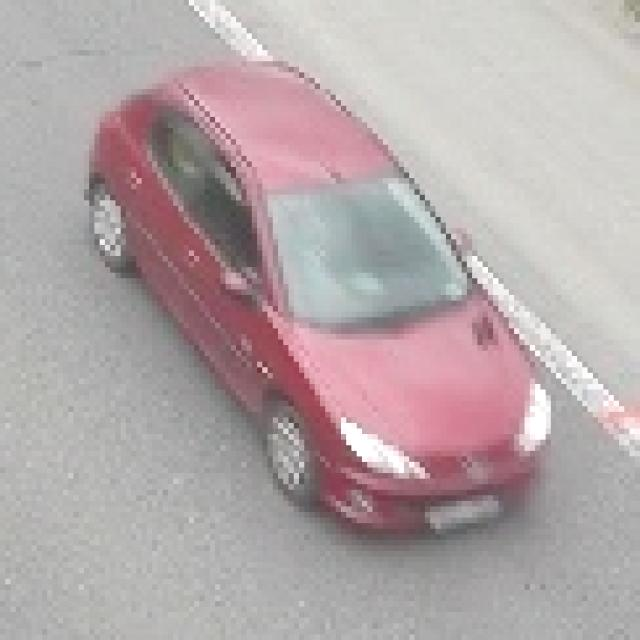maroon: (83, 65, 557, 544)
